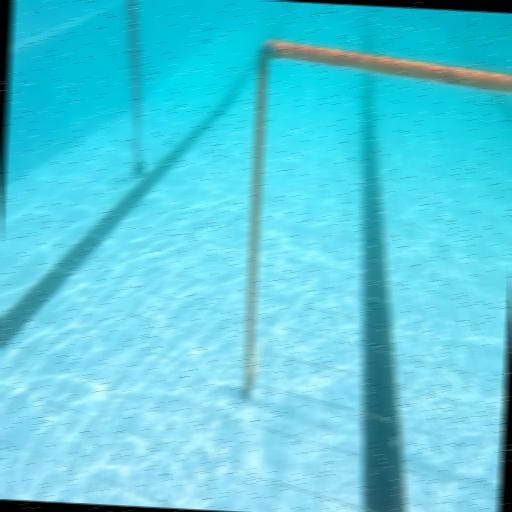gate: (239, 36, 512, 415)
